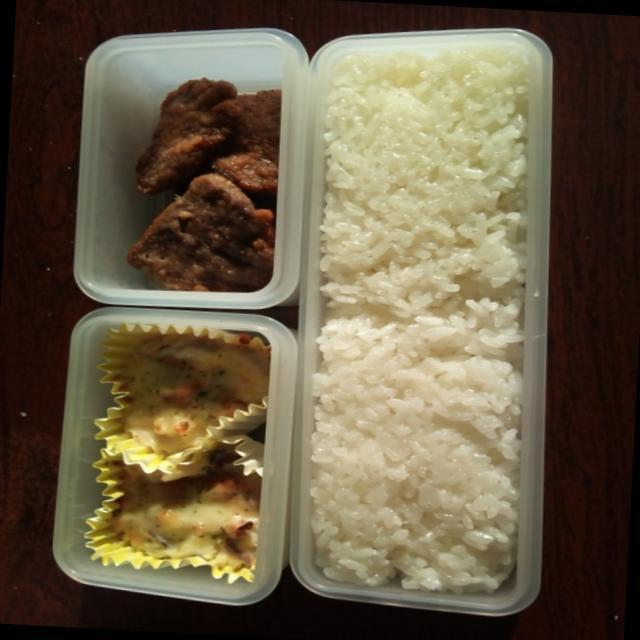Rice: (297, 44, 544, 602)
